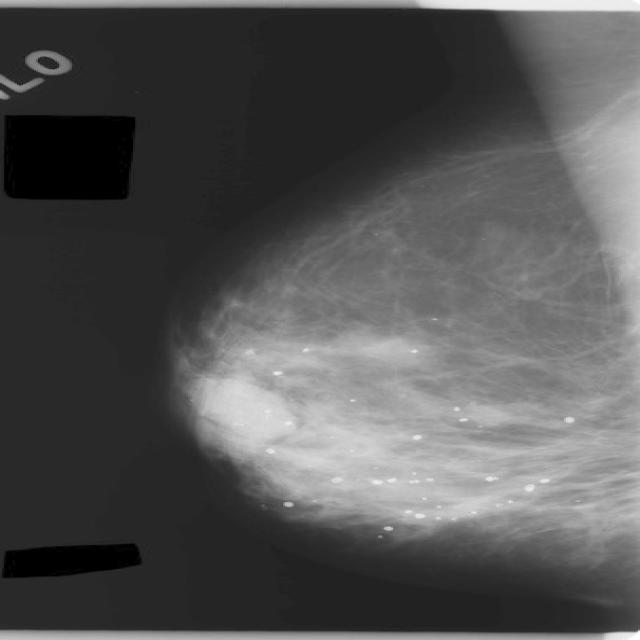tumour: (190, 375, 289, 441)
